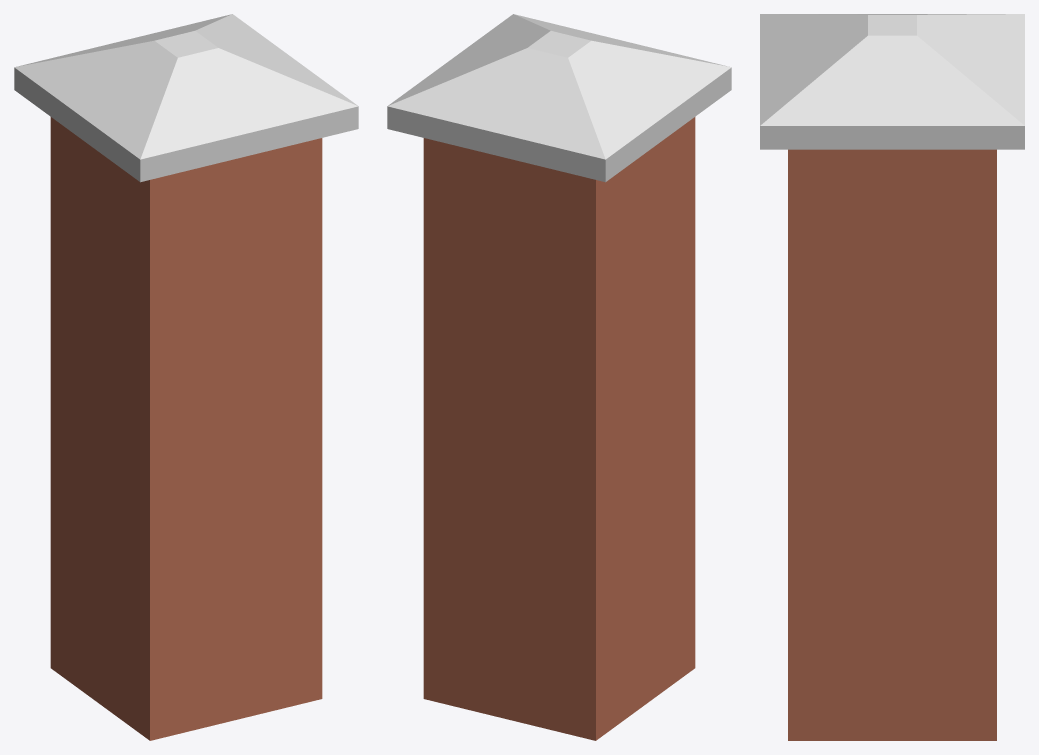
File: brick_wall_03.fbx
The picture shows the model from 3 angles, left to right: view 1: azimuth 30°, elevation 25°; view 2: azimuth 150°, elevation 25°; view 3: azimuth 270°, elevation 25°; orthographic projection. The views are drawn at different scales.
Visible parts, largest first — view 1: BrickWall_03; view 2: BrickWall_03; view 3: BrickWall_03.
Boxes of the visible parts, x1,y1,x2,y2 form: BrickWall_03: [14, 14, 358, 740]; BrickWall_03: [387, 14, 731, 740]; BrickWall_03: [760, 14, 1024, 740].
Size of the model in its own units: 94.22 by 263 by 94.22.
